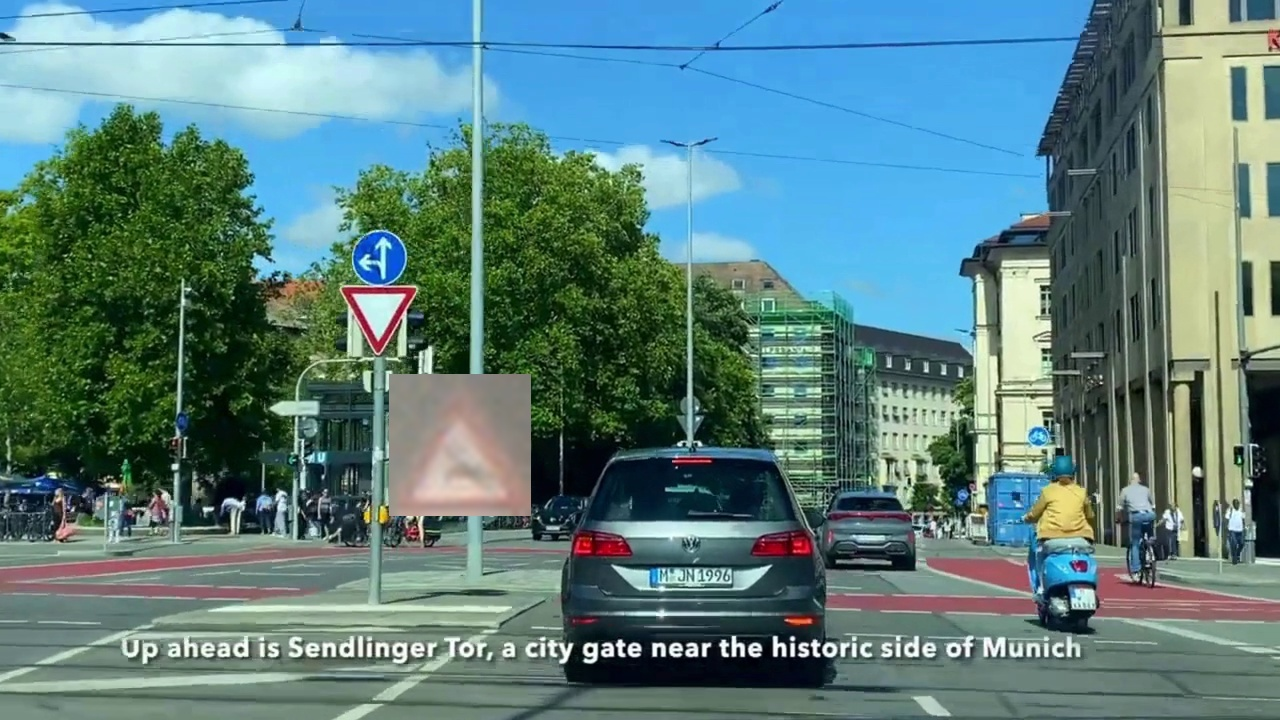Wild animals: (389, 374, 531, 516)
